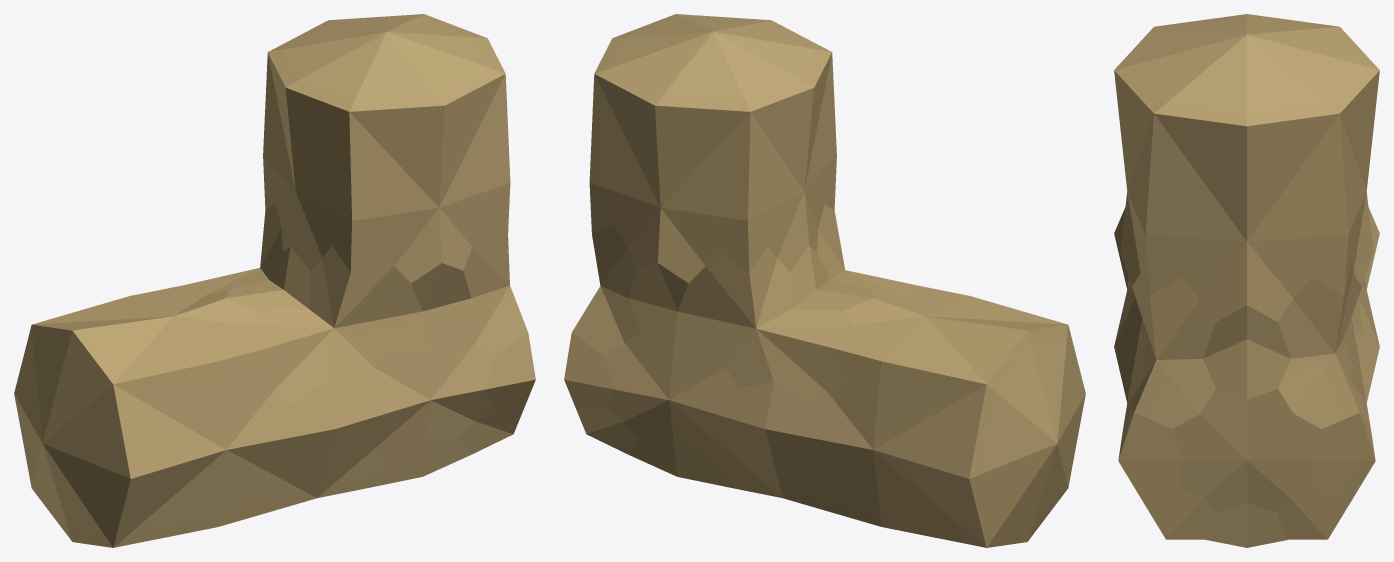
File: Platform_Corner_Start.fbx
3 views of the same model, side by side, from view 1: azimuth 30°, elevation 25°; view 2: azimuth 150°, elevation 25°; view 3: azimuth 270°, elevation 25° (orthographic). The views are drawn at different scales.
Visible parts, largest first — view 1: Platform_Corner; view 2: Platform_Corner; view 3: Platform_Corner.
Boxes of the visible parts, x1=… form: Platform_Corner: x1=14, y1=14, x2=535, y2=547; Platform_Corner: x1=564, y1=14, x2=1085, y2=547; Platform_Corner: x1=1114, y1=14, x2=1379, y2=547.
Bounding box in the file's own units: 440 × 410 × 200.
